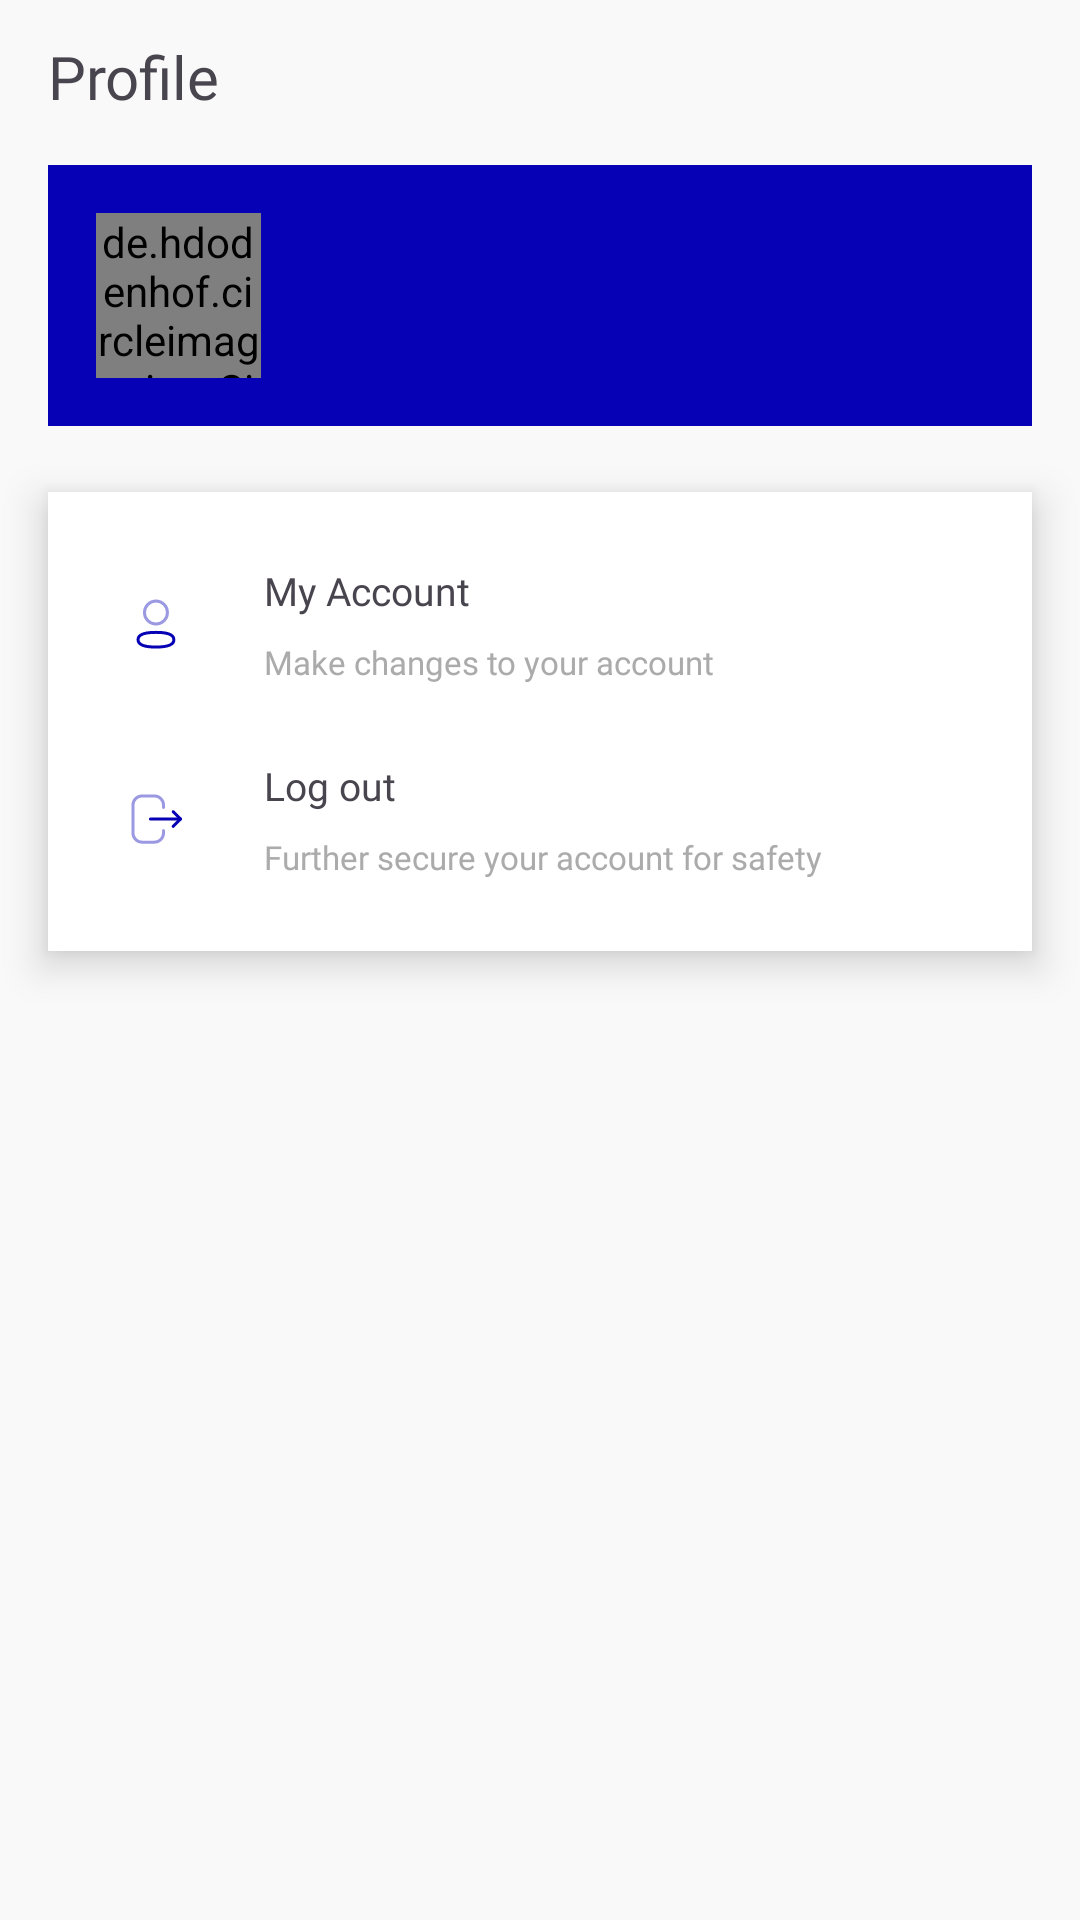

Icons on this 1080*1920 Android screen, each with the point to tap as (x=x, y=y):
profile: (x=156, y=624)
